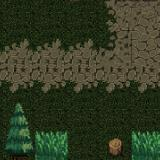Obstacle: (97, 132, 132, 160), (3, 131, 35, 160)
Slow: (35, 131, 68, 160), (131, 132, 160, 160)
